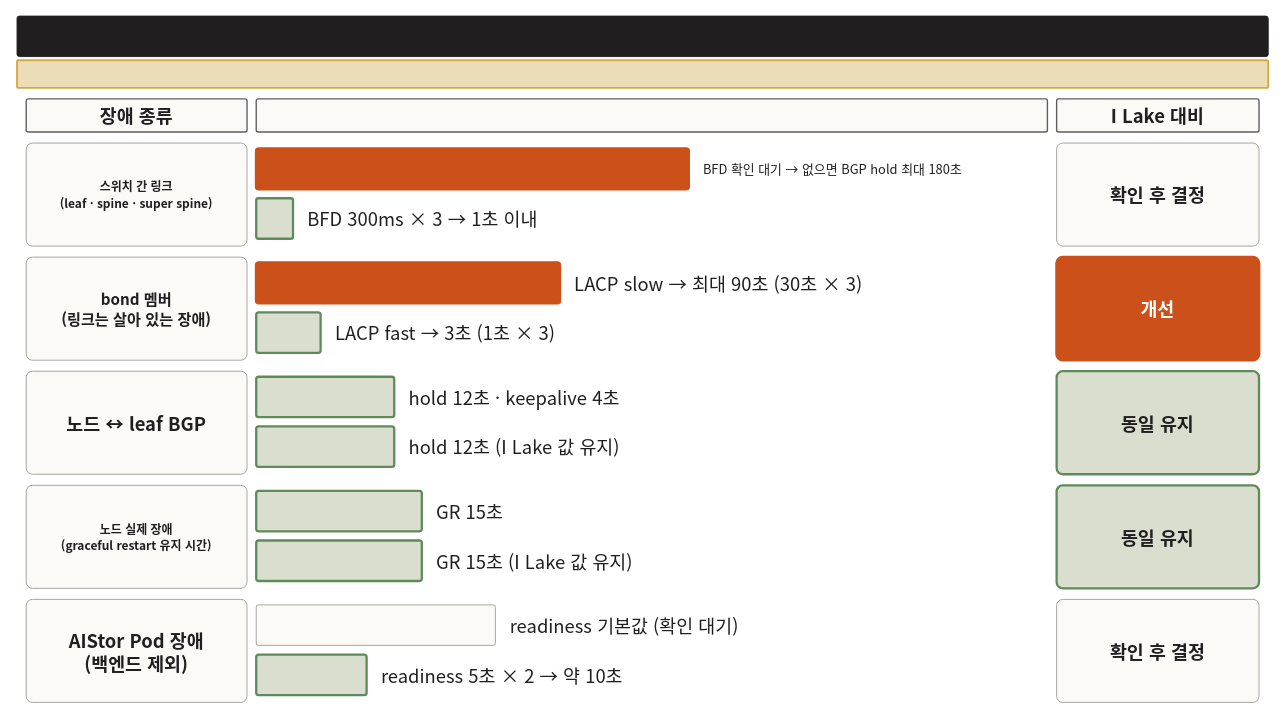
This 1284x719 diagram has some shape labels left out. The centre of each missing label's shape, as x and y in pixels:
감지 · 전환까지 (I Lake 위 · Y1 아래): pixel 651 115
그림 3-3. 장애 감지 · 전환 시간 : I Lake → Y1: pixel 642 36
막대 길이 = 트래픽이 사라지거나 쏠린 채 머무는 최대 시간. 짧을수록 좋음 (축은 대략적 비례): pixel 642 73
